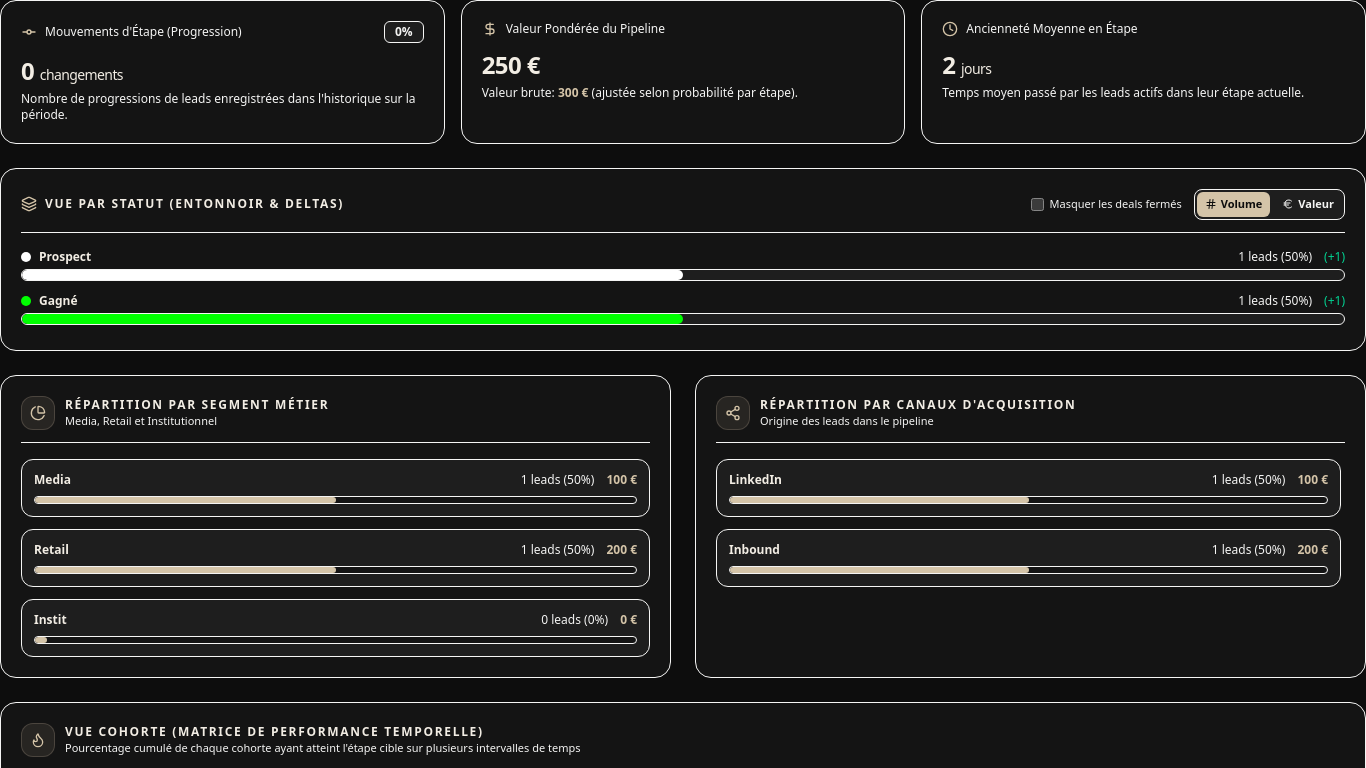
Test: DashboardPipelineTab › opens the drill-down drawer when a stage bar is clicked
Click the button "Prospect 1 leads (50%) (+1)".
click(65, 256)  # box [21,248,1345,280]
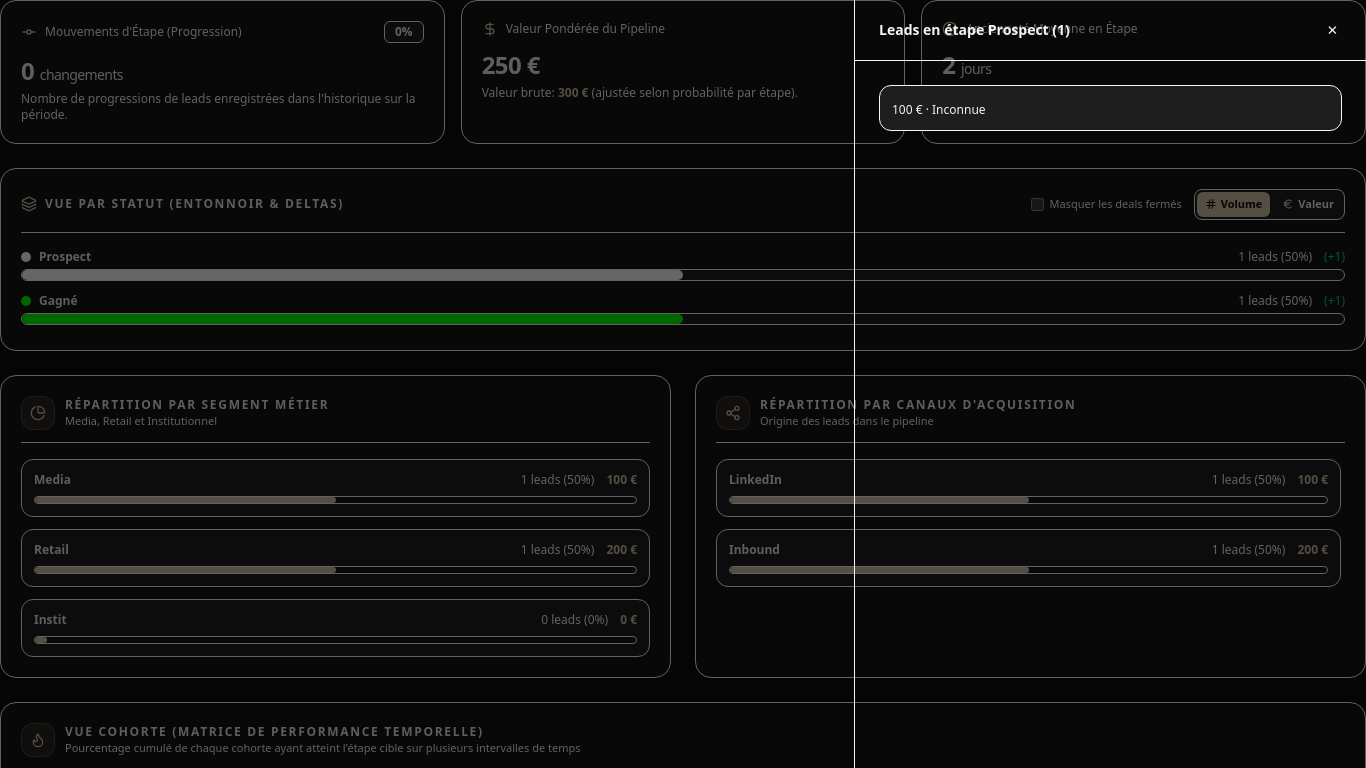
Check: the text "Leads en étape Prospect (1)" is shown, box [879,20,1070,40]
